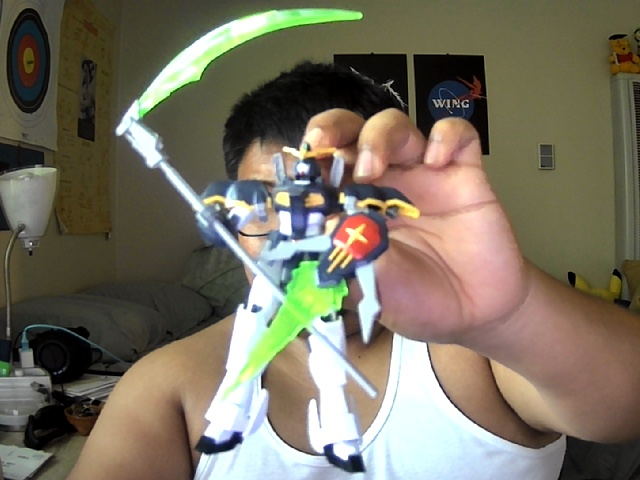Deathsythe: (114, 7, 421, 475)
